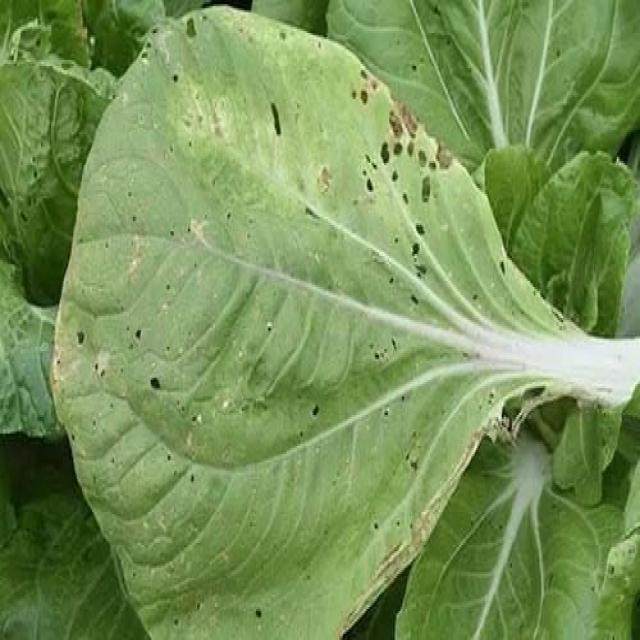-Kitchen waste - vegetable roots and leaves-: (61, 16, 640, 634)
